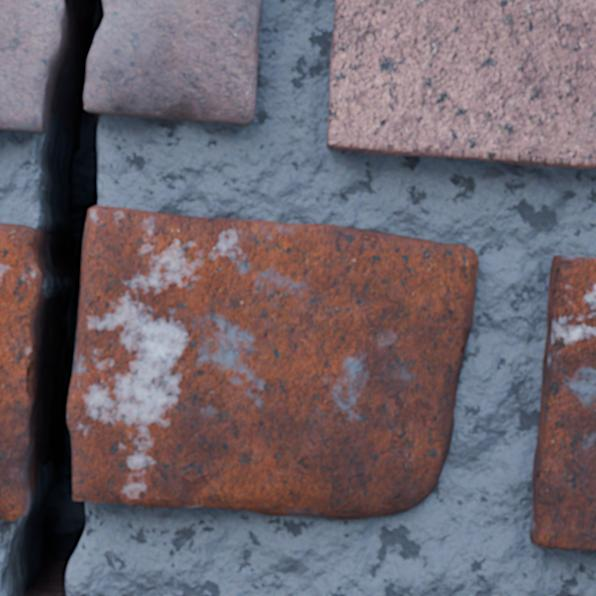brick: (327, 0, 595, 168), (530, 256, 595, 550)
broken_brick: (68, 205, 479, 520), (85, 0, 262, 126), (0, 222, 37, 521), (0, 0, 61, 133)
crack: (0, 0, 105, 595)
